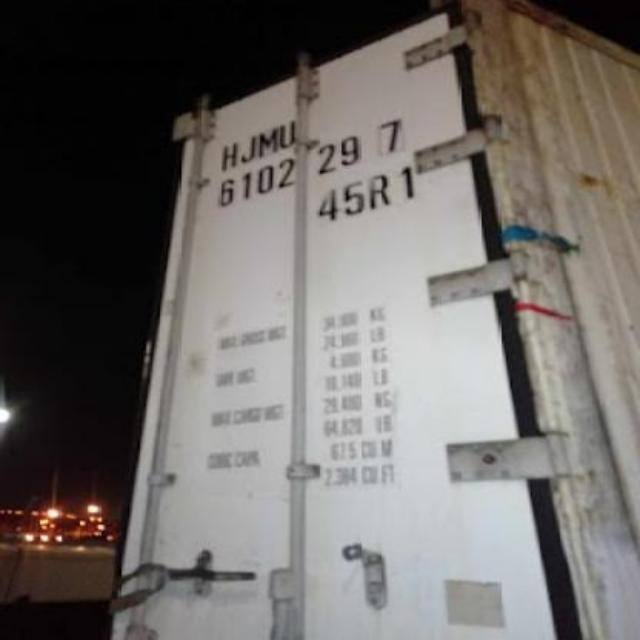0: (258, 164, 274, 198)
1: (238, 170, 254, 202)
2: (314, 141, 342, 177), (276, 159, 300, 191)
6: (220, 177, 238, 206)
7: (380, 119, 404, 151)
9: (336, 136, 360, 170)
H: (218, 142, 244, 170)
J: (239, 134, 255, 166)
M: (258, 129, 278, 155)
U: (274, 122, 300, 148)
